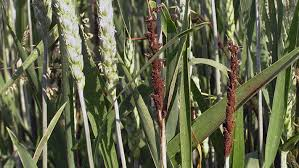Wheat Loose Smut: (139, 12, 167, 111), (221, 41, 241, 156)
